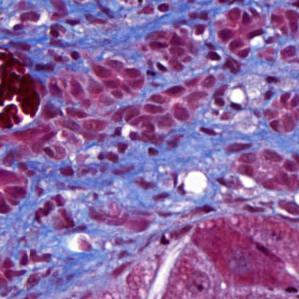inflammation: (210, 81, 250, 112), (10, 4, 49, 29), (187, 18, 216, 44), (247, 26, 265, 51)
